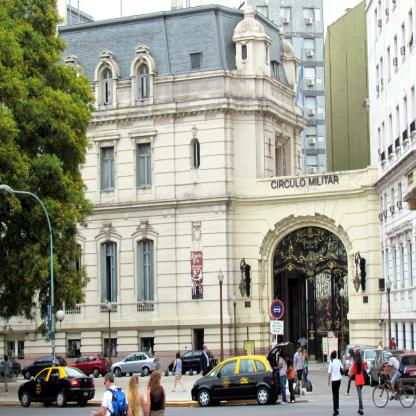Car: (0, 349, 218, 410), (191, 359, 280, 410), (16, 364, 96, 408), (20, 348, 64, 381), (108, 351, 162, 376), (370, 348, 404, 384), (66, 352, 113, 377), (348, 346, 382, 376), (167, 352, 215, 372), (395, 353, 416, 391), (340, 345, 364, 368), (0, 356, 23, 374)
